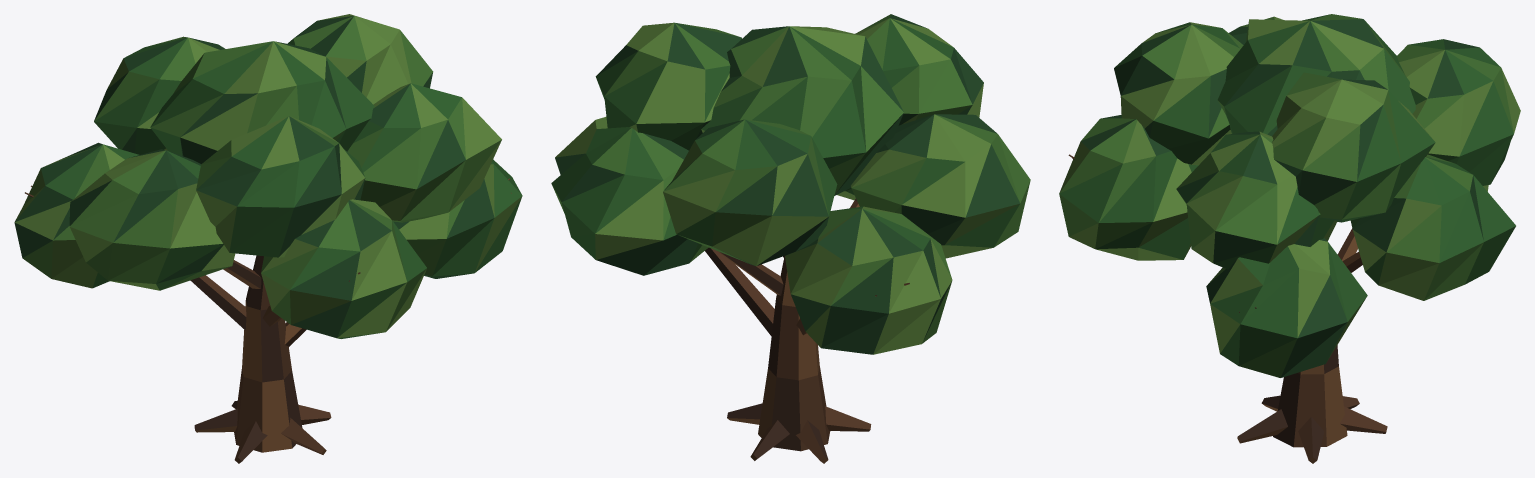
The model's file is tree_oak_mature.obj.
3 renders of one model, left to right at view 1: azimuth 30°, elevation 25°; view 2: azimuth 150°, elevation 25°; view 3: azimuth 270°, elevation 25°, orthographic. The views are drawn at different scales.
Visible parts, largest first — view 1: tree_oak_mature; view 2: tree_oak_mature; view 3: tree_oak_mature.
Part boxes in pixels (box(x1,y1,x2,y2)): tree_oak_mature: box(14, 14, 522, 463); tree_oak_mature: box(551, 14, 1030, 463); tree_oak_mature: box(1059, 14, 1520, 463).
Size of the model in its own units: 674 by 570 by 574.
Materials: 1 (1 with a texture image).
